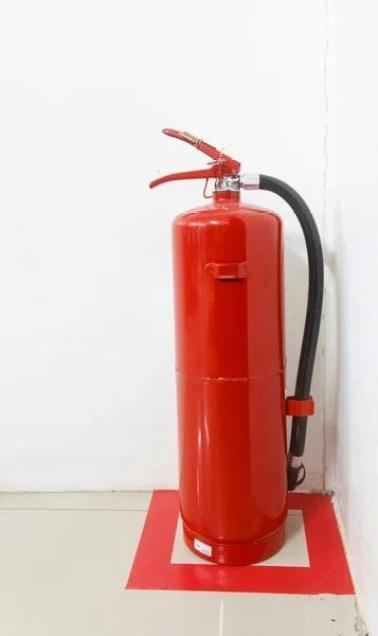APAR: (146, 127, 289, 565)
